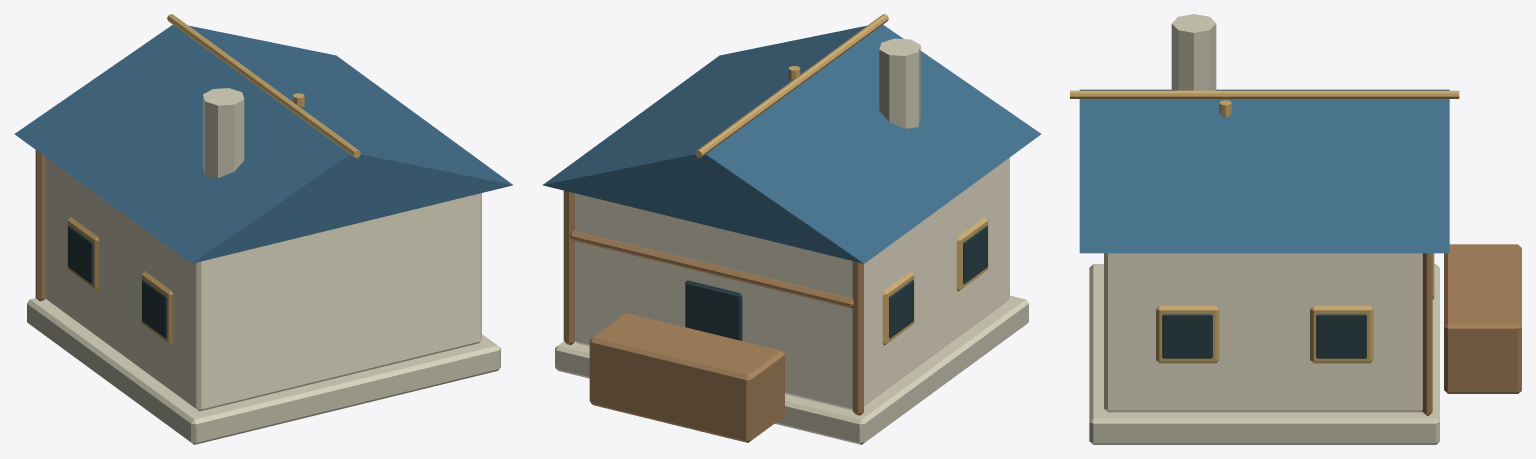
The model's file is level_06.glb.
3 renders of one model, left to right at view 1: azimuth 30°, elevation 25°; view 2: azimuth 150°, elevation 25°; view 3: azimuth 270°, elevation 25°, orthographic. The views are drawn at different scales.
Parts seen in each view (by area): view 1: workshop — level 06; view 2: workshop — level 06; view 3: workshop — level 06.
Boxes of the visible parts, <box> form: workshop — level 06: <box>14,14,513,444</box>; workshop — level 06: <box>542,14,1041,444</box>; workshop — level 06: <box>1070,14,1521,444</box>.
Bounding box in the file's own units: 3.99 × 3.47 × 4.64.
